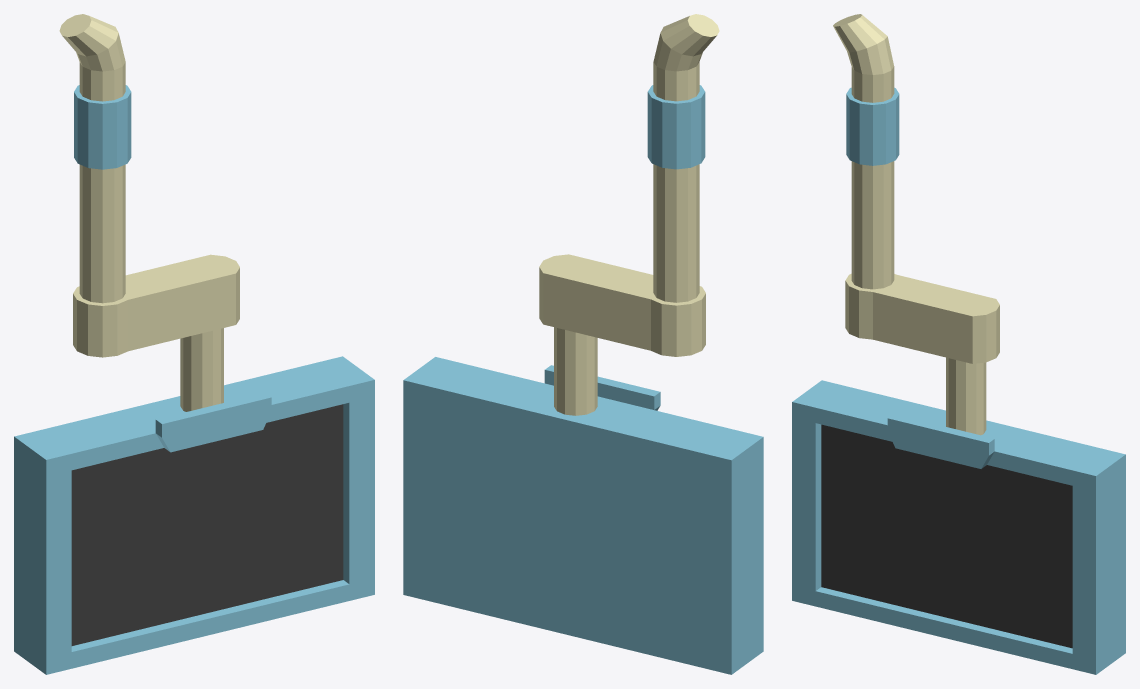
The model's file is Pantalla.fbx.
The picture shows the model from 3 angles, left to right: view 1: azimuth 30°, elevation 25°; view 2: azimuth 150°, elevation 25°; view 3: azimuth 330°, elevation 25°; orthographic projection. The views are drawn at different scales.
Visible parts, largest first — view 1: Cube.057, Cylinder, Cylinder.005; view 2: Cube.057, Cylinder, Cylinder.005; view 3: Cube.057, Cylinder, Cylinder.005.
Boxes of the visible parts, bbox=[...] form: Cube.057: bbox=[14, 356, 374, 674]; Cylinder: bbox=[59, 14, 239, 357]; Cylinder.005: bbox=[180, 328, 223, 411]; Cube.057: bbox=[403, 357, 763, 674]; Cylinder: bbox=[539, 14, 719, 356]; Cylinder.005: bbox=[554, 327, 597, 415]; Cube.057: bbox=[792, 380, 1125, 674]; Cylinder: bbox=[833, 14, 999, 363]; Cylinder.005: bbox=[946, 357, 986, 435].
Bounding box in the file's own units: 180 × 331 × 36.39.
